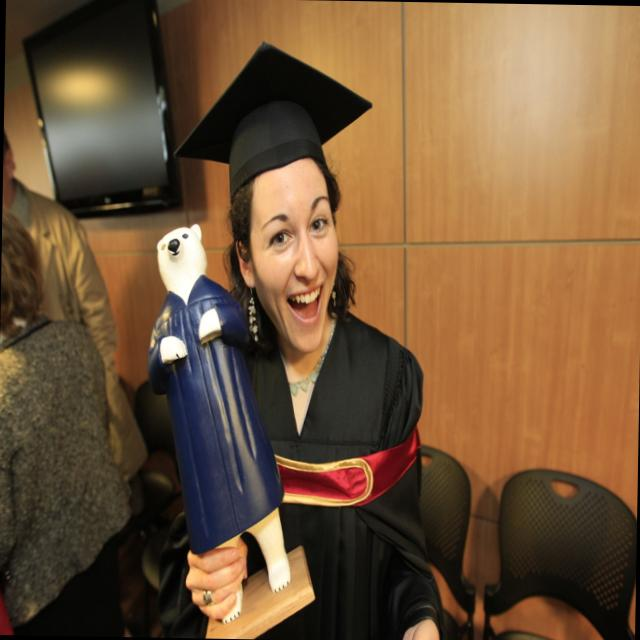Toy: (135, 224, 286, 638)
